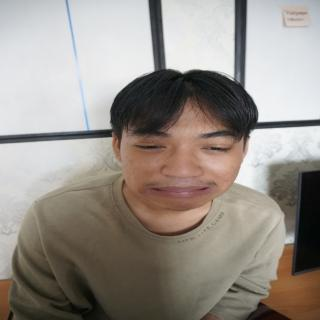Sedih: (117, 94, 243, 213)
